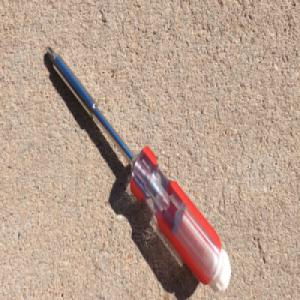Screwdriver: (44, 44, 231, 295)
